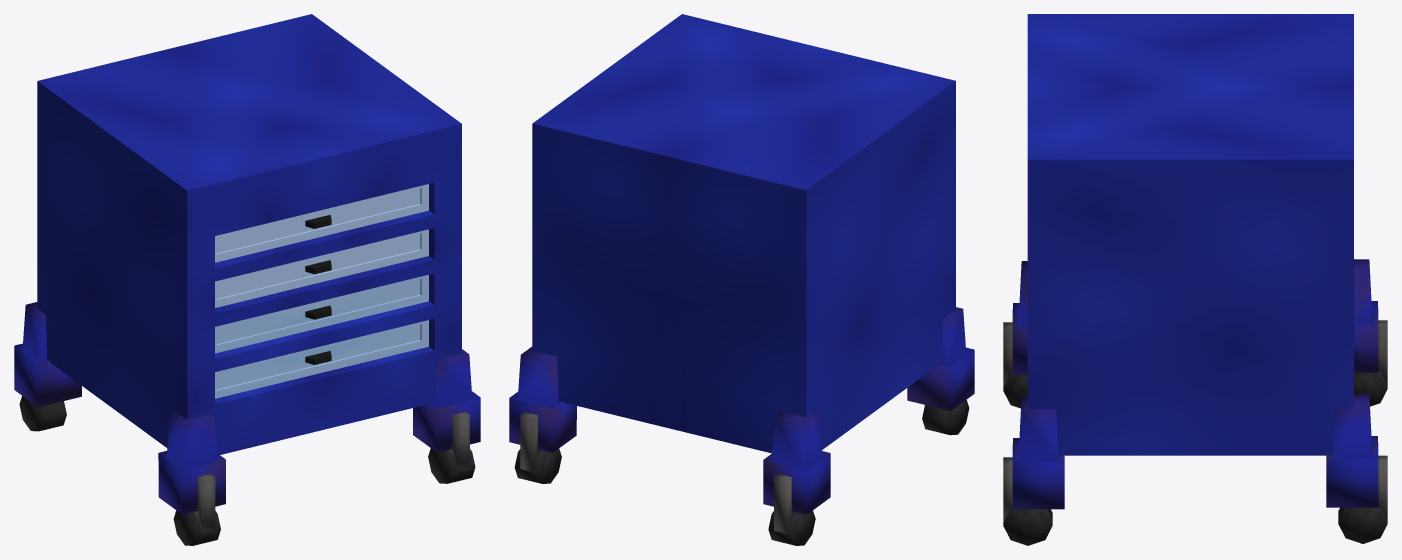
The model's file is BancadaHospitalar.fbx.
The picture shows the model from 3 angles, left to right: view 1: azimuth 30°, elevation 25°; view 2: azimuth 150°, elevation 25°; view 3: azimuth 270°, elevation 25°; orthographic projection. The views are drawn at different scales.
Parts seen in each view (by area): view 1: BancadaHospitalar; view 2: BancadaHospitalar; view 3: BancadaHospitalar.
Boxes of the visible parts, x1,y1,x2,y2 form: BancadaHospitalar: [14, 14, 480, 545]; BancadaHospitalar: [509, 14, 974, 545]; BancadaHospitalar: [1003, 14, 1387, 545].
Size of the model in its own units: 59.63 by 67.65 by 61.23.
Materials: 1 (1 with a texture image).
